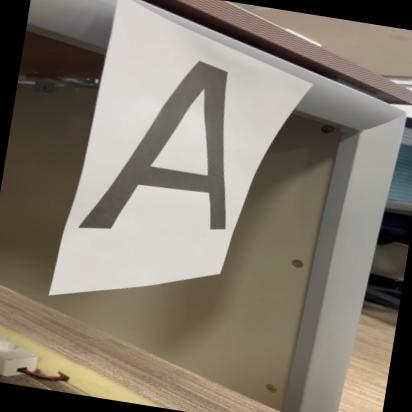seat: (89, 48, 284, 258)
